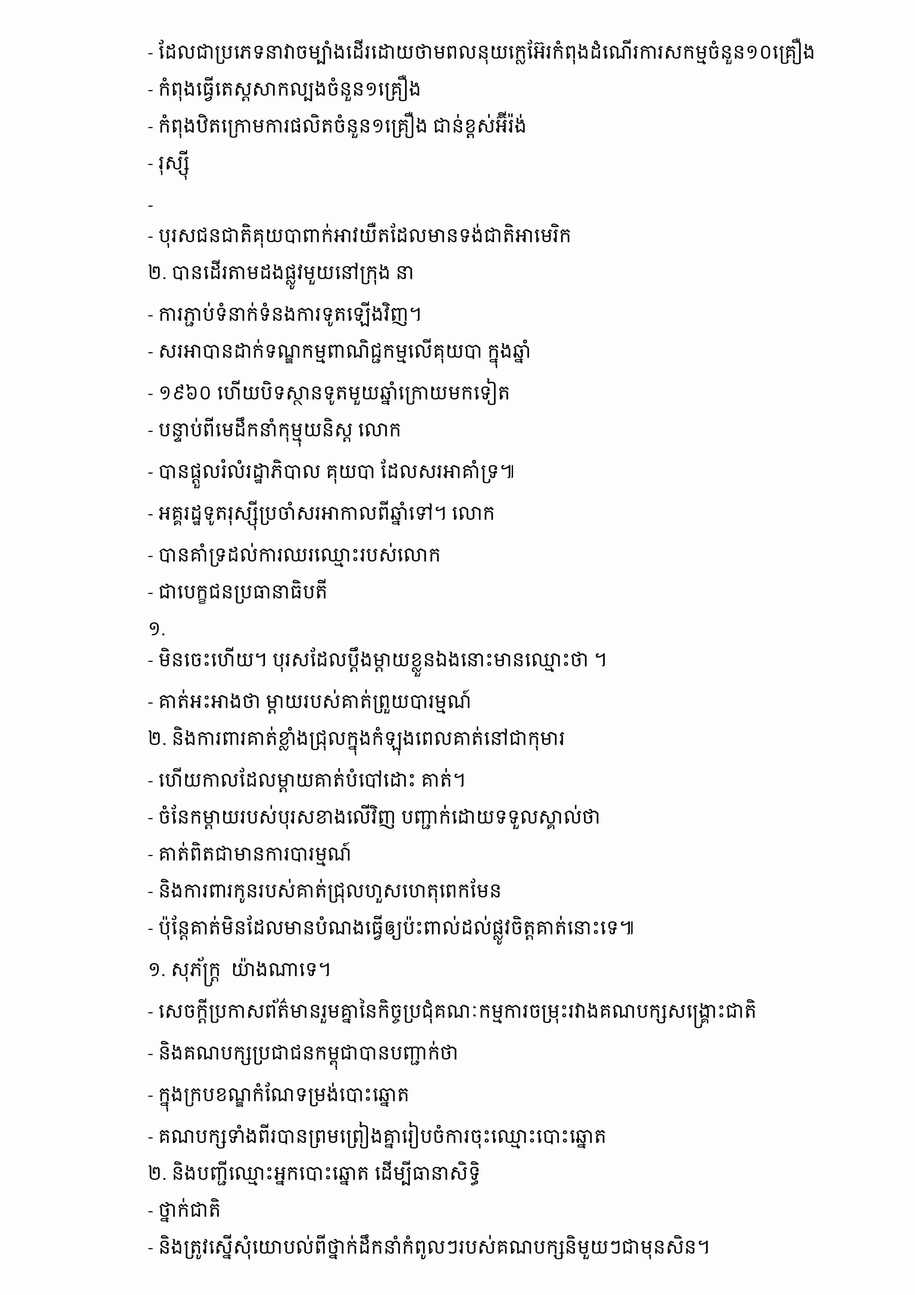text: (148, 998, 762, 1028), (148, 38, 821, 65), (148, 915, 640, 945), (148, 1234, 715, 1260), (148, 647, 612, 677), (148, 1121, 611, 1149), (148, 726, 570, 756), (148, 338, 536, 368), (148, 804, 605, 829), (148, 459, 520, 489), (148, 222, 576, 248), (148, 500, 500, 530), (148, 111, 532, 138), (148, 378, 515, 405), (148, 1041, 464, 1070), (148, 878, 507, 903), (148, 1160, 486, 1186), (148, 767, 470, 793), (148, 689, 477, 714), (148, 260, 419, 290), (148, 1082, 414, 1112), (148, 417, 407, 447), (148, 75, 426, 102), (148, 301, 427, 327), (148, 543, 446, 567), (148, 956, 336, 987), (148, 842, 357, 866), (148, 579, 333, 604), (148, 1198, 226, 1223), (148, 150, 194, 180), (148, 622, 171, 635), (148, 206, 158, 211)
